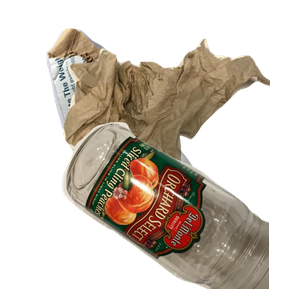cardboard: (44, 26, 209, 186)
glass: (60, 120, 300, 300)
plastic: (80, 120, 289, 300)
trash: (60, 36, 300, 198)
